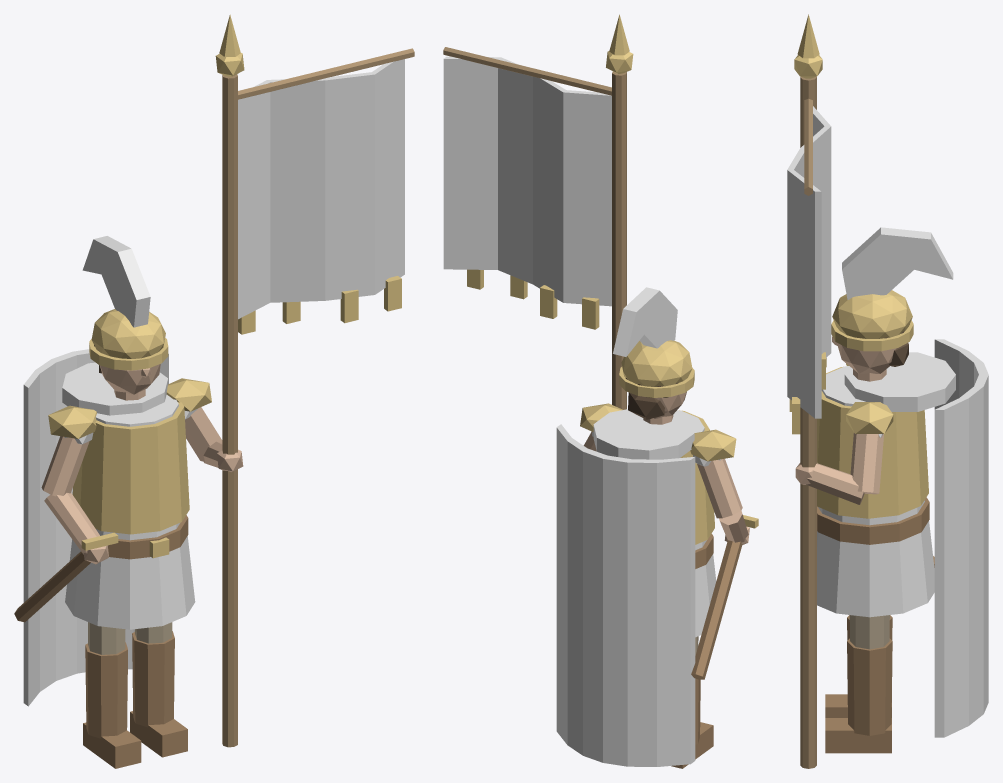
The model's file is civ_unit_leader.glb.
The picture shows the model from 3 angles, left to right: view 1: azimuth 30°, elevation 25°; view 2: azimuth 150°, elevation 25°; view 3: azimuth 270°, elevation 25°; orthographic projection. The views are drawn at different scales.
Visible parts, largest first — view 1: civ_unit_leader; view 2: civ_unit_leader; view 3: civ_unit_leader.
Boxes of the visible parts, left/top/right/bottom form: civ_unit_leader: left=14, top=14, right=414, bottom=768; civ_unit_leader: left=443, top=14, right=758, bottom=768; civ_unit_leader: left=787, top=14, right=988, bottom=768.
Size of the model in its own units: 1.45 by 3 by 0.7243.
